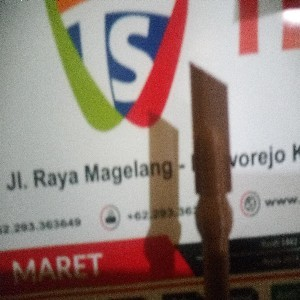cutter: (188, 62, 235, 300)
